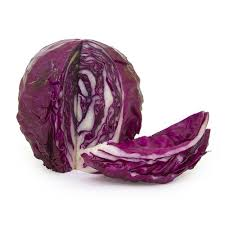cabbage: (9, 31, 215, 190)
